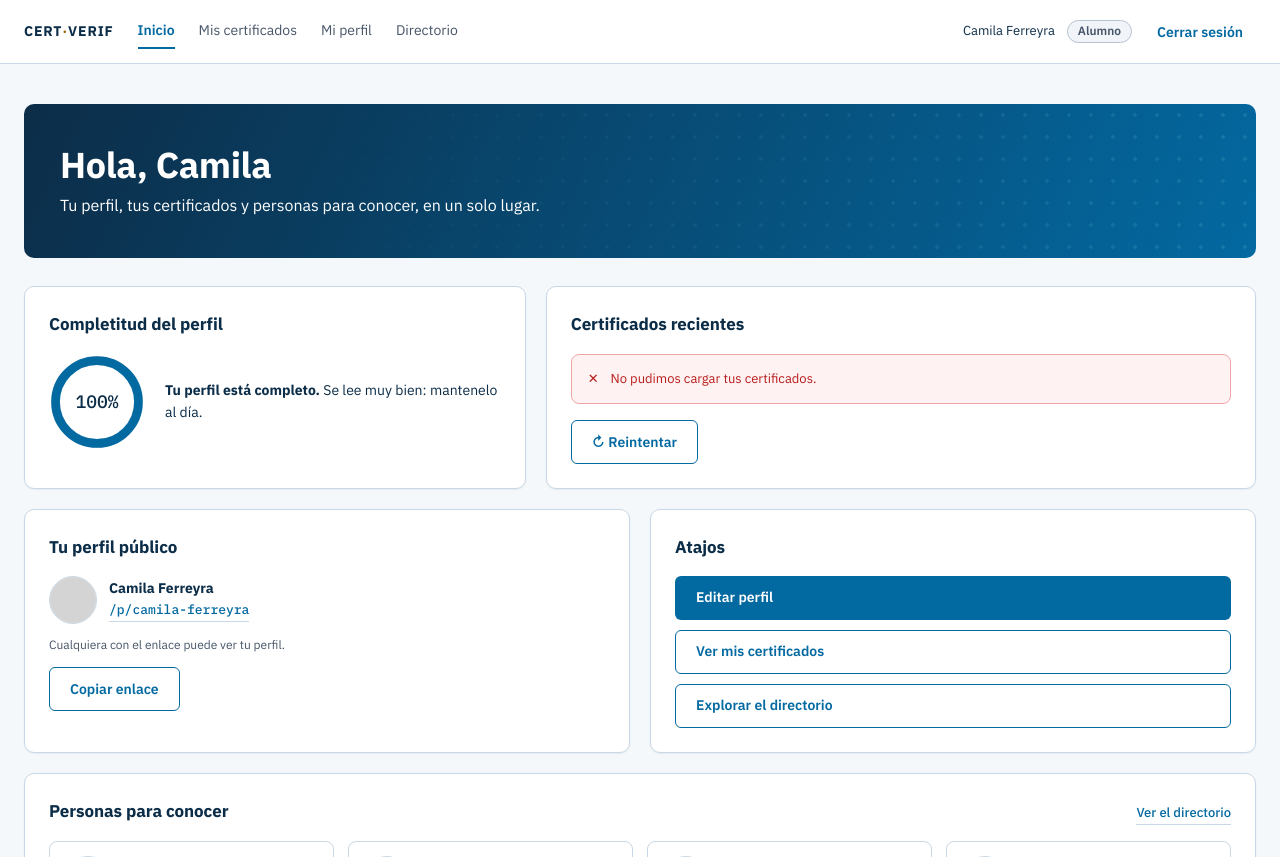
it: Inicio de alumno › una tarjeta que falla no rompe las otras y se reintenta sola
The image size is (1280, 857).
Check: the progress indicator is shown, box [49,354,145,450]
Click the button "↻ Reintentar" at x=634, y=442, box [571,420,698,464]
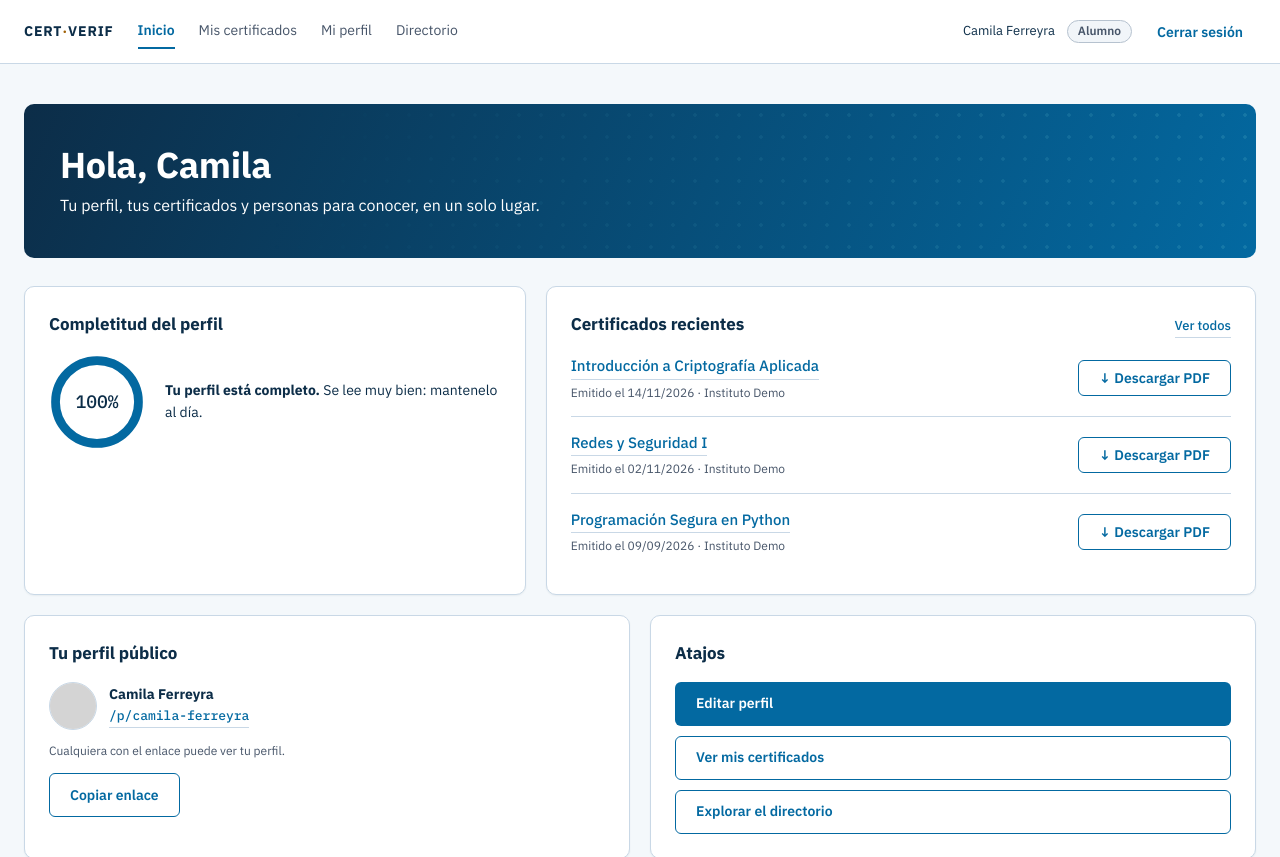
Check: the button "Reintentar" is gone
Check: the list item that starts with "Introducción a Criptografía Aplicada" is shown, box [571,354,1231,416]
